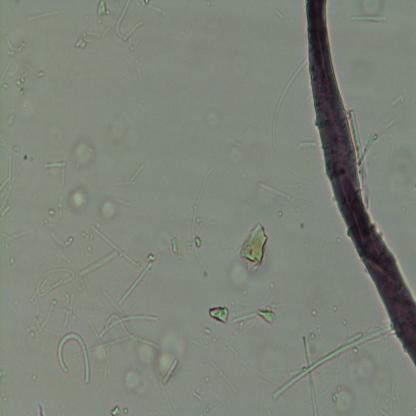Background material: (236, 222, 272, 275), (73, 1, 111, 51), (99, 110, 139, 150), (118, 43, 147, 88), (26, 300, 58, 339), (160, 322, 190, 362), (134, 336, 161, 372), (49, 230, 75, 264), (124, 368, 152, 396), (3, 144, 30, 172), (40, 198, 64, 229), (330, 385, 356, 412), (2, 33, 29, 59), (73, 139, 97, 168), (201, 108, 226, 135), (227, 137, 248, 168), (66, 185, 90, 212), (98, 200, 118, 222), (360, 0, 384, 18), (208, 304, 228, 324), (256, 310, 278, 327), (0, 228, 27, 240), (169, 234, 181, 257), (15, 76, 27, 98), (190, 385, 204, 403), (389, 93, 406, 107), (300, 139, 317, 150), (36, 401, 45, 415), (7, 111, 15, 126), (111, 404, 120, 416), (202, 328, 212, 336), (38, 70, 46, 79), (2, 392, 8, 404), (32, 372, 37, 382), (0, 372, 6, 377)
Cotton: (305, 0, 416, 365)
Glass filter fibre: (272, 325, 391, 401), (271, 57, 308, 148), (90, 224, 142, 271), (190, 170, 211, 261), (57, 331, 91, 385), (118, 260, 154, 306), (98, 314, 160, 339), (302, 334, 319, 416), (35, 267, 76, 298), (114, 0, 144, 41), (350, 110, 367, 180), (78, 251, 119, 280), (207, 358, 238, 395), (155, 369, 176, 416), (257, 178, 292, 200), (115, 162, 144, 188), (26, 10, 62, 22), (162, 360, 178, 384), (232, 311, 258, 325), (349, 14, 388, 23), (42, 157, 65, 171), (0, 174, 11, 192), (274, 8, 286, 23), (0, 205, 10, 217)
